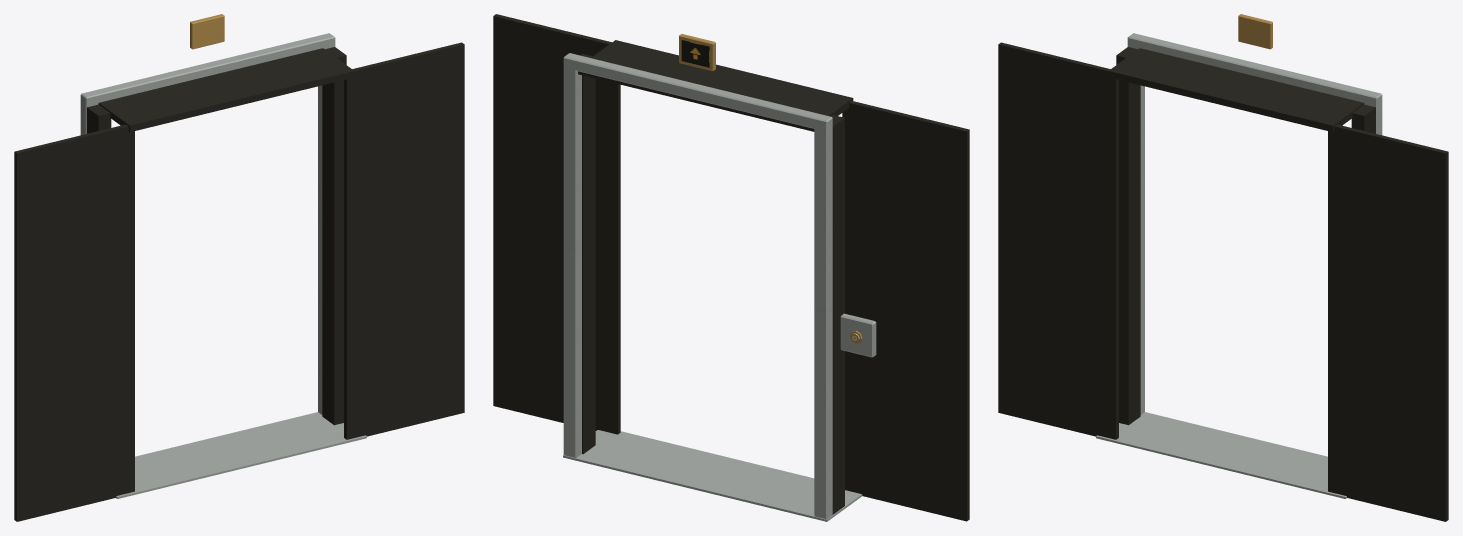
Rendered from elevator_frame_70s.glb.
The picture shows the model from 3 angles, left to right: view 1: azimuth 30°, elevation 25°; view 2: azimuth 150°, elevation 25°; view 3: azimuth 330°, elevation 25°; orthographic projection. The views are drawn at different scales.
Visible parts, largest first — view 1: elevator_frame_70s; view 2: elevator_frame_70s; view 3: elevator_frame_70s.
Boxes of the visible parts, box(x1,y1,x2,y2) form: elevator_frame_70s: box(14, 14, 464, 521); elevator_frame_70s: box(493, 14, 969, 521); elevator_frame_70s: box(998, 14, 1448, 521).
Bounding box in the file's own units: 2.85 × 2.58 × 0.41.
Materials: 1 (1 with a texture image).
